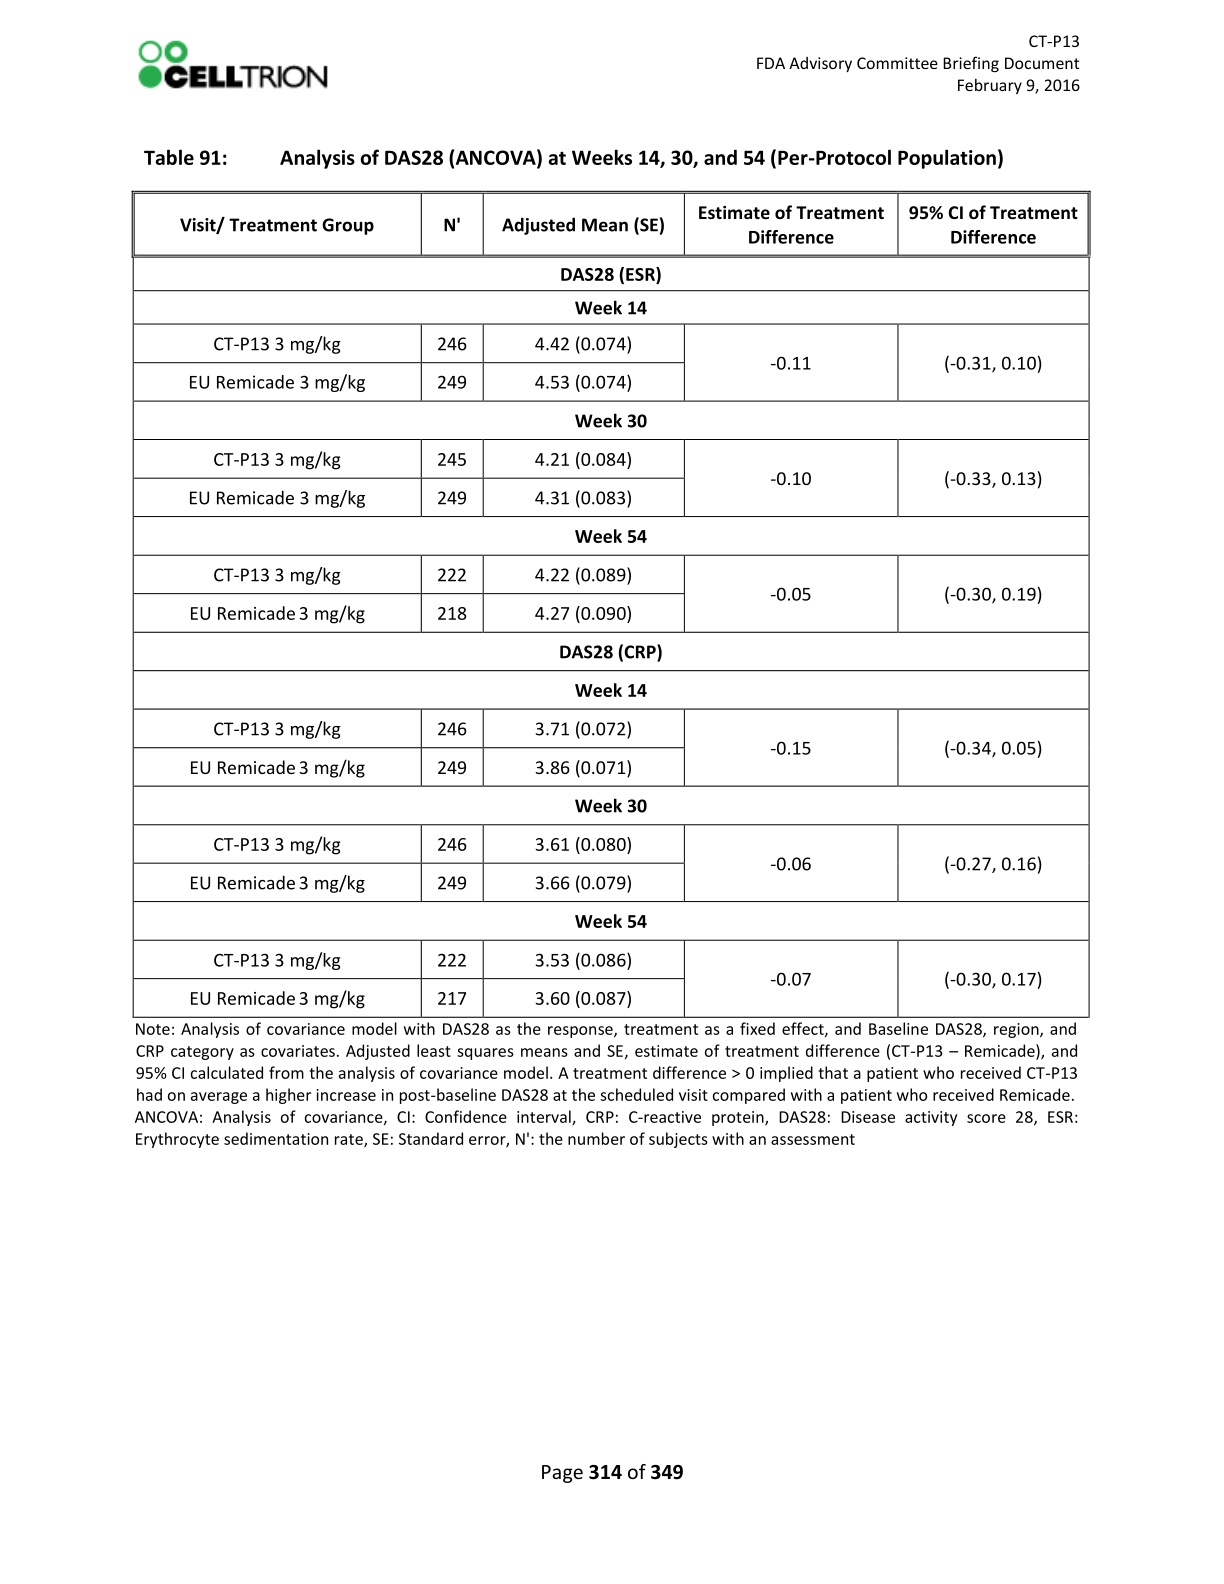merged_cells: (129, 189, 1092, 1020)
